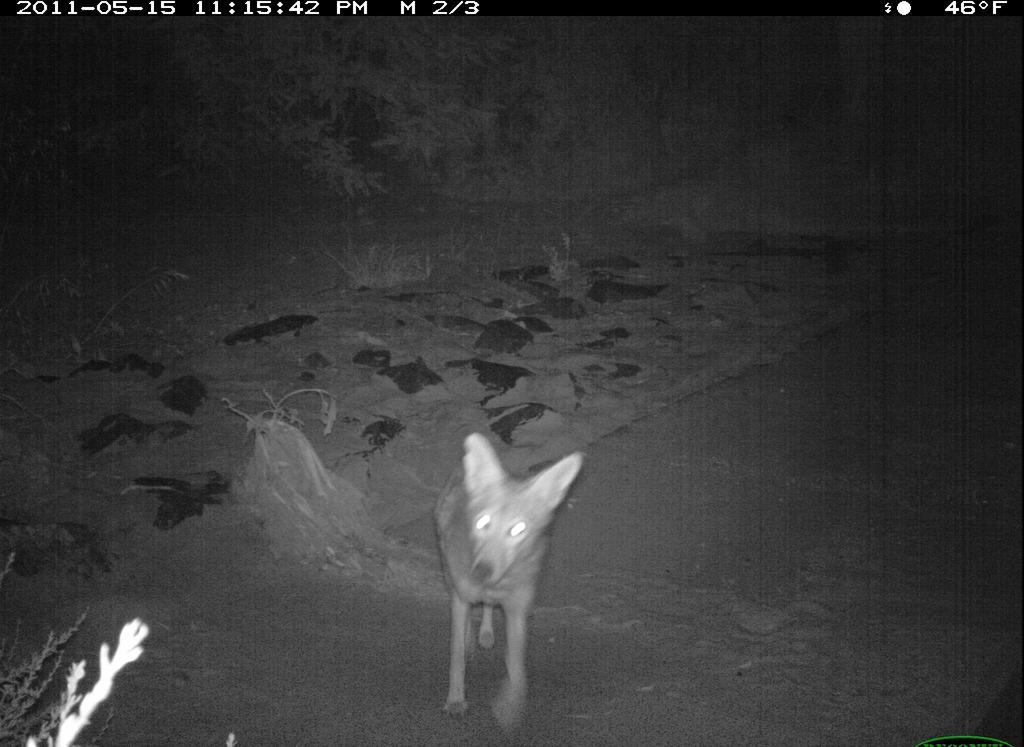coyote: (432, 431, 587, 739)
